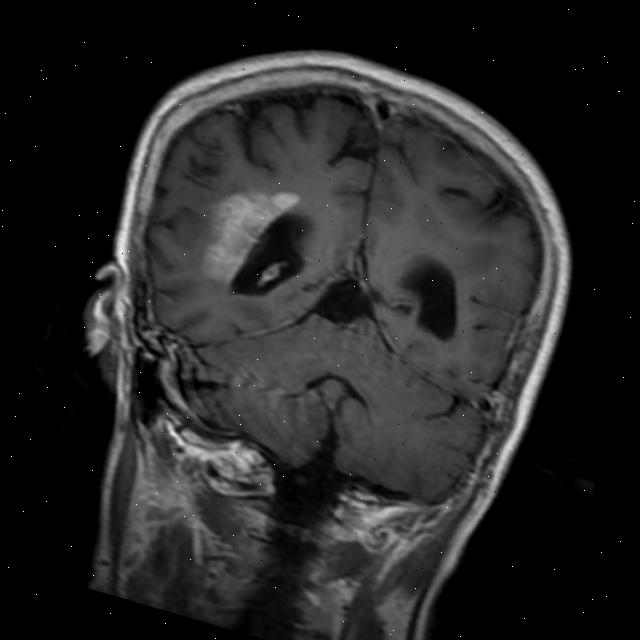Glioma: (192, 168, 307, 302)
